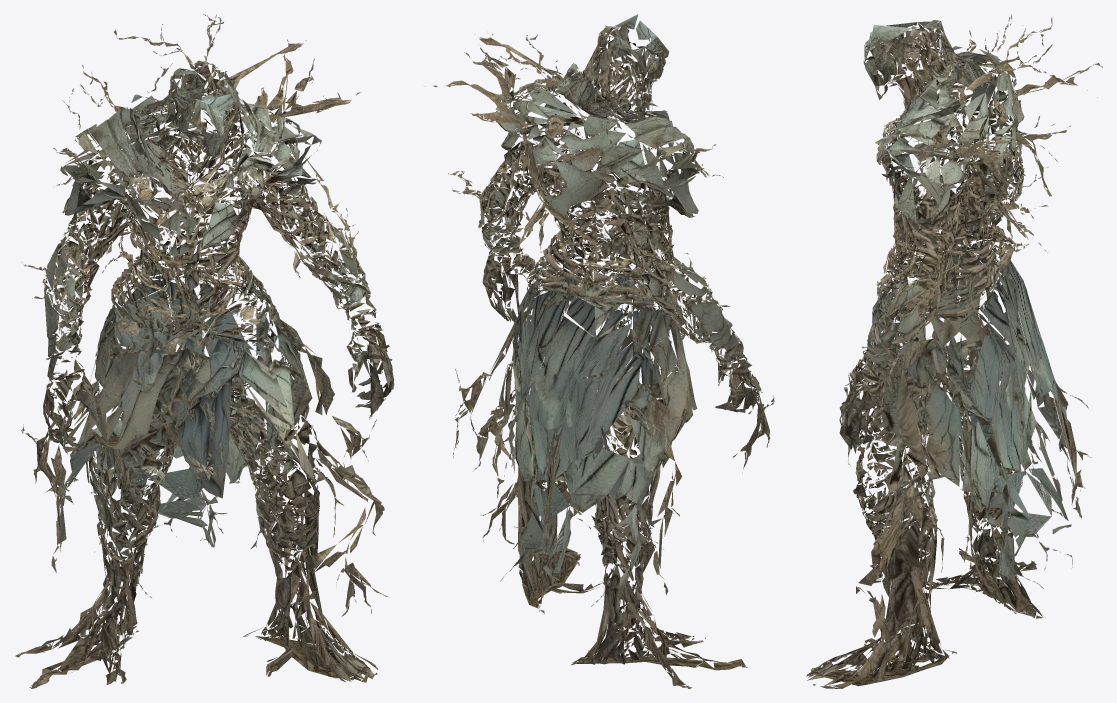
The picture shows the model from 3 angles, left to right: view 1: azimuth 30°, elevation 25°; view 2: azimuth 150°, elevation 25°; view 3: azimuth 270°, elevation 25°; orthographic projection. The views are drawn at different scales.
Visible parts, largest first — view 1: Mesh_0; view 2: Mesh_0; view 3: Mesh_0.
Boxes of the visible parts, box(x1,y1,x2,y2) form: Mesh_0: box(15, 14, 394, 688); Mesh_0: box(433, 14, 774, 688); Mesh_0: box(806, 14, 1102, 688).
Bounding box in the file's own units: 1.1 × 1.91 × 0.8309.
1 material, 1 textured.
